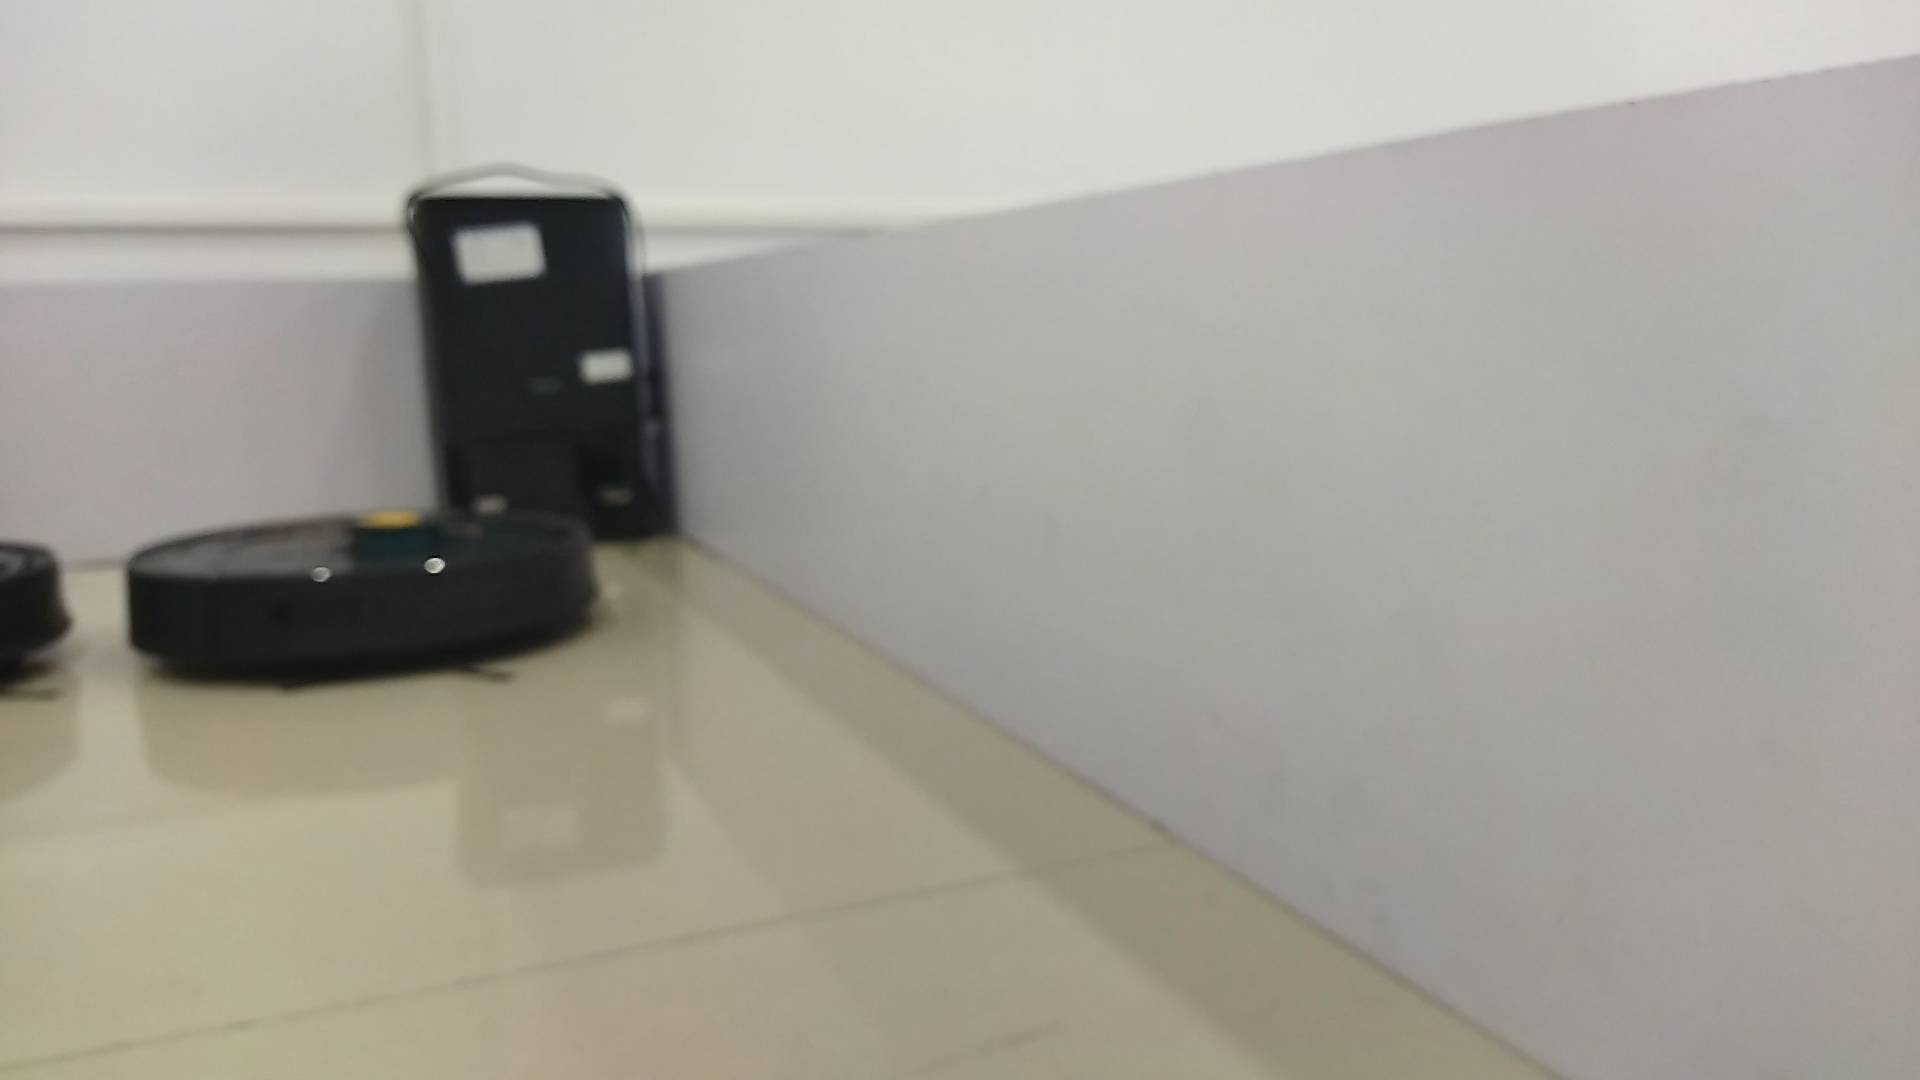dust collecting barrel: (411, 196, 663, 541)
